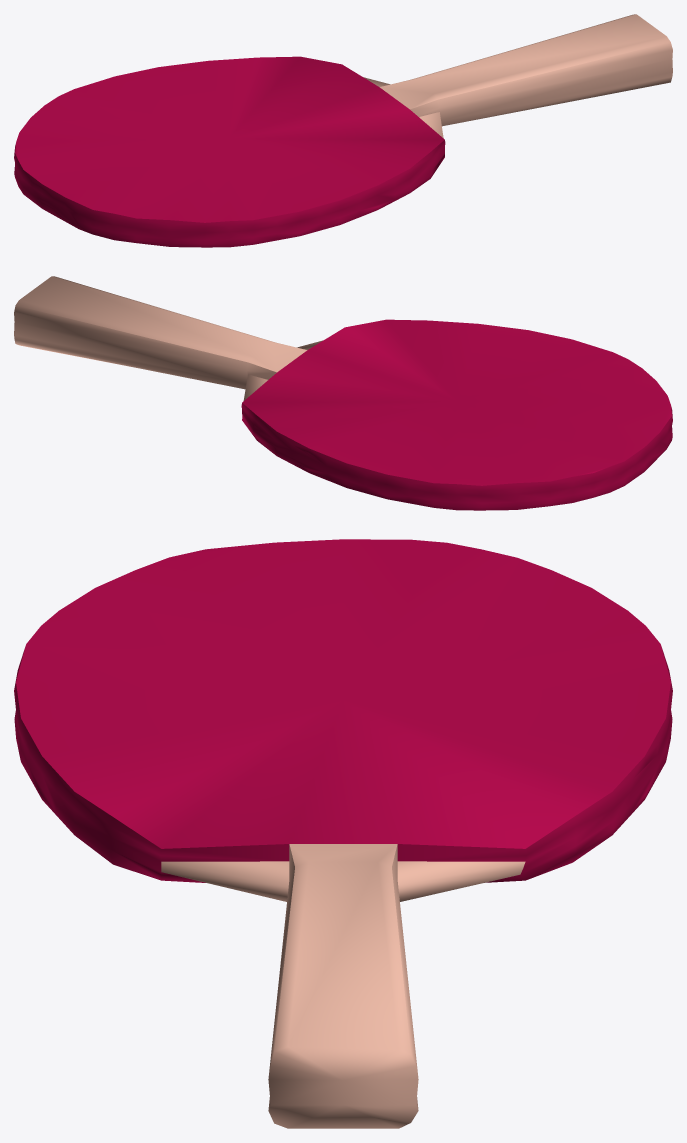
The picture shows the model from 3 angles, top to bottom: view 1: azimuth 30°, elevation 25°; view 2: azimuth 150°, elevation 25°; view 3: azimuth 270°, elevation 25°; orthographic projection. The views are drawn at different scales.
Parts seen in each view (by area): view 1: pCylinder1; view 2: pCylinder1; view 3: pCylinder1.
Part boxes in pixels (x1,y1,x2,y2): pCylinder1: [14, 14, 672, 247]; pCylinder1: [14, 276, 672, 510]; pCylinder1: [14, 539, 672, 1128].
Bounding box in the file's own units: 0.8082 × 0.0585 × 0.426.
